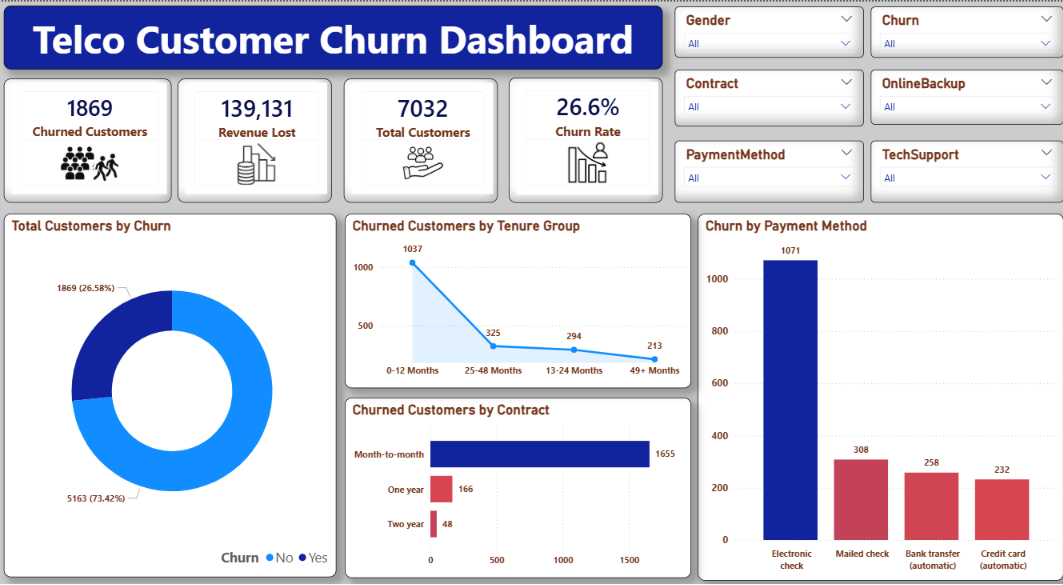

The page's visual inventory and layout, read from the dashboard file:
{"tool":"powerbi","page":{"name":"Churn Overview ","canvas":[1500,820],"ordinal":0},"visuals":[{"type":"cardVisual","fields":{"Data":["Telco_Customer_Churn_Cleaned.Revenue Lost"]},"box":[252.5,106.8,214.5,172.7],"z":0},{"type":"cardVisual","fields":{"Data":["Telco_Customer_Churn_Cleaned.Total Customers"]},"box":[483.6,106.8,214.5,172.7],"z":1000},{"type":"cardVisual","fields":{"Data":["Telco_Customer_Churn_Cleaned.Churn Rate"]},"box":[713.4,105.5,214.5,174.1],"z":2000},{"type":"cardVisual","fields":{"Data":["Telco_Customer_Churn_Cleaned.Churned Customers"]},"box":[10.1,106.8,234,172.7],"z":3000},{"type":"donutChart","fields":{"Category":["Telco_Customer_Churn_Cleaned.Churn"],"Y":["Telco_Customer_Churn_Cleaned.Total Customers"]},"box":[9.6,295.9,463.1,506.5],"z":4000},{"type":"columnChart","title":"Churn by Payment Method","fields":{"Category":["Telco_Customer_Churn_Cleaned.PaymentMethod"],"Y":["Telco_Customer_Churn_Cleaned.Churned Customers"]},"box":[976.1,295.9,509.8,511.4],"z":5000},{"type":"slicer","fields":{"Values":["Telco_Customer_Churn_Cleaned.gender"]},"box":[944.6,7,263.2,71],"z":6000},{"type":"slicer","fields":{"Values":["Telco_Customer_Churn_Cleaned.Contract"]},"box":[944.6,94.3,263.2,79.4],"z":7000},{"type":"slicer","fields":{"Values":["Telco_Customer_Churn_Cleaned.PaymentMethod"]},"box":[944.6,193.2,263.2,86.3],"z":8000},{"type":"textbox","box":[10.1,5.2,917.8,89.1],"z":9000},{"type":"slicer","fields":{"Values":["Telco_Customer_Churn_Cleaned.TechSupport"]},"box":[1217.6,193.2,268.8,86.3],"z":10000},{"type":"slicer","fields":{"Values":["Telco_Customer_Churn_Cleaned.OnlineBackup"]},"box":[1217.6,94.3,268.8,76.6],"z":11000},{"type":"slicer","fields":{"Values":["Telco_Customer_Churn_Cleaned.Churn"]},"box":[1217.6,7,268.8,71],"z":12000},{"type":"clusteredBarChart","fields":{"Y":["Telco_Customer_Churn_Cleaned.Churned Customers"],"Category":["Telco_Customer_Churn_Cleaned.Contract"]},"box":[484,551.6,482.4,250.9],"z":13000},{"type":"lineChart","fields":{"Category":["Telco_Customer_Churn_Cleaned.Tenure Group"],"Y":["Telco_Customer_Churn_Cleaned.Churned Customers"]},"box":[484,295.9,482.4,242.8],"z":14000}]}

Visuals, with their boxes in screenshot pixels (x1, y1, x2, y2), scaled from the page's 1500x820 canvas onto the 1063x585 screenshot:
cardVisual - Telco_Customer_Churn_Cleaned.Revenue Lost: (179,76,331,199)
cardVisual - Telco_Customer_Churn_Cleaned.Total Customers: (343,76,495,199)
cardVisual - Telco_Customer_Churn_Cleaned.Churn Rate: (506,75,658,199)
cardVisual - Telco_Customer_Churn_Cleaned.Churned Customers: (7,76,173,199)
donutChart - Telco_Customer_Churn_Cleaned.Churn x Telco_Customer_Churn_Cleaned.Total Customers: (7,211,335,572)
"Churn by Payment Method" columnChart: (692,211,1053,576)
slicer - Telco_Customer_Churn_Cleaned.gender: (669,5,856,56)
slicer - Telco_Customer_Churn_Cleaned.Contract: (669,67,856,124)
slicer - Telco_Customer_Churn_Cleaned.PaymentMethod: (669,138,856,199)
textbox: (7,4,658,67)
slicer - Telco_Customer_Churn_Cleaned.TechSupport: (863,138,1053,199)
slicer - Telco_Customer_Churn_Cleaned.OnlineBackup: (863,67,1053,122)
slicer - Telco_Customer_Churn_Cleaned.Churn: (863,5,1053,56)
clusteredBarChart - Telco_Customer_Churn_Cleaned.Churned Customers x Telco_Customer_Churn_Cleaned.Contract: (343,394,685,573)
lineChart - Telco_Customer_Churn_Cleaned.Tenure Group x Telco_Customer_Churn_Cleaned.Churned Customers: (343,211,685,384)
